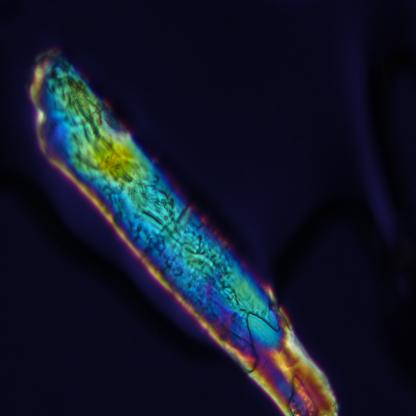Microfibre: (27, 47, 338, 415)
